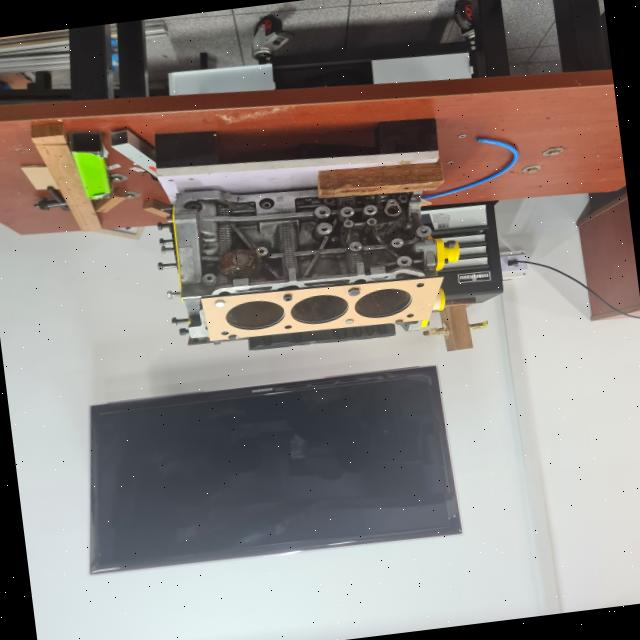tor_v1: (200, 276, 444, 340)
